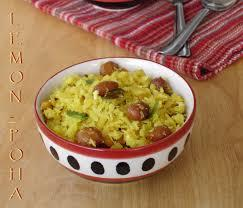poha: (37, 60, 201, 153)
